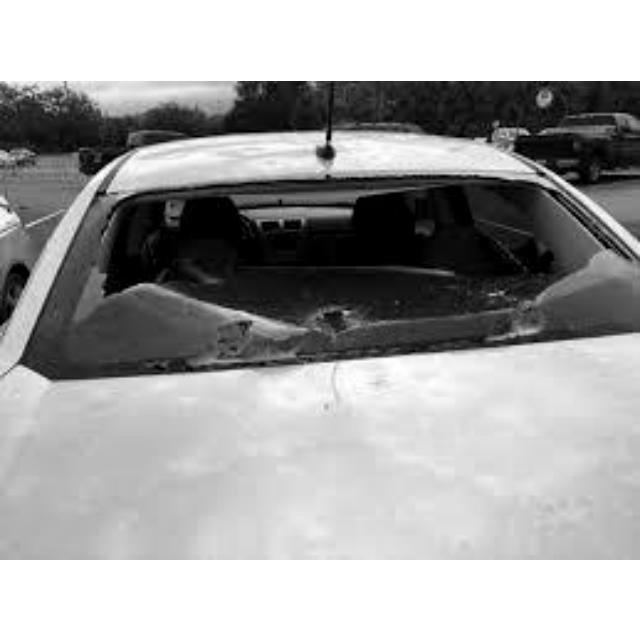Front-windscreen-damage: (102, 172, 573, 359)
